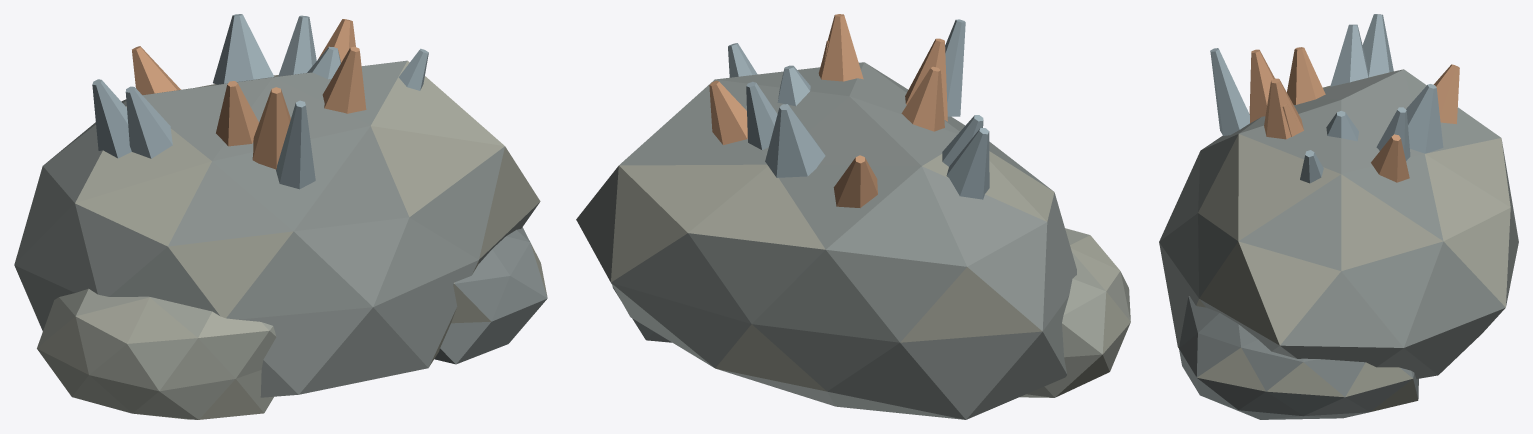
File: resource_ore_iron.glb
3 renders of one model, left to right at view 1: azimuth 30°, elevation 25°; view 2: azimuth 150°, elevation 25°; view 3: azimuth 270°, elevation 25°, orthographic. The views are drawn at different scales.
Parts seen in each view (by area): view 1: Host stone, Host stone.001, Host stone.002, Visible iron crystal.002, Visible iron crystal.006, Visible iron crystal.004, Visible iron crystal.012, Visible iron crystal.001, Visible iron crystal.011, Visible iron crystal.009, Visible iron crystal.010, Visible iron crystal.007 (+3 smaller); view 2: Host stone, Host stone.001, Visible iron crystal.002, Visible iron crystal.012, Visible iron crystal.011, Visible iron crystal.005, Visible iron crystal.009, Visible iron crystal.007, Visible iron crystal.006, Visible iron crystal.010, Visible iron crystal.001, Visible iron crystal (+2 smaller); view 3: Host stone, Host stone.002, Visible iron crystal.002, Visible iron crystal.006, Visible iron crystal.004, Visible iron crystal.009, Visible iron crystal.011, Visible iron crystal.012, Visible iron crystal.001, Visible iron crystal.005, Visible iron crystal.007, Visible iron crystal.010 (+2 smaller).
Boxes of the visible parts, x1,y1,x2,y2 form: Host stone: [14, 60, 540, 397]; Host stone.001: [37, 288, 276, 419]; Host stone.002: [434, 227, 547, 364]; Visible iron crystal.002: [213, 14, 274, 84]; Visible iron crystal.006: [276, 100, 315, 189]; Visible iron crystal.004: [125, 86, 172, 158]; Visible iron crystal.012: [92, 79, 131, 158]; Visible iron crystal.001: [252, 87, 290, 169]; Visible iron crystal.011: [322, 46, 366, 113]; Visible iron crystal.009: [216, 81, 258, 146]; Visible iron crystal.010: [278, 15, 316, 76]; Visible iron crystal.007: [132, 46, 180, 95]; Host stone: [576, 62, 1076, 419]; Host stone.001: [1019, 228, 1130, 397]; Visible iron crystal.002: [765, 104, 825, 177]; Visible iron crystal.012: [946, 128, 989, 199]; Visible iron crystal.011: [818, 14, 863, 81]; Visible iron crystal.005: [709, 80, 747, 145]; Visible iron crystal.009: [901, 66, 944, 131]; Visible iron crystal.007: [833, 155, 877, 207]; Visible iron crystal.006: [945, 19, 965, 116]; Visible iron crystal.010: [746, 81, 777, 150]; Visible iron crystal.001: [905, 38, 947, 121]; Visible iron crystal: [777, 65, 810, 106]; Host stone: [1159, 69, 1518, 378]; Host stone.002: [1179, 296, 1418, 419]; Visible iron crystal.002: [1406, 84, 1443, 153]; Visible iron crystal.006: [1210, 48, 1249, 135]; Visible iron crystal.004: [1330, 24, 1368, 86]; Visible iron crystal.009: [1287, 47, 1325, 104]; Visible iron crystal.011: [1264, 78, 1303, 139]; Visible iron crystal.012: [1362, 14, 1393, 77]; Visible iron crystal.001: [1249, 49, 1274, 123]; Visible iron crystal.005: [1371, 134, 1409, 182]; Visible iron crystal.007: [1433, 64, 1459, 124]; Visible iron crystal.010: [1376, 107, 1410, 160].
Size of the model in its own units: 1.87 by 1.14 by 1.33.
